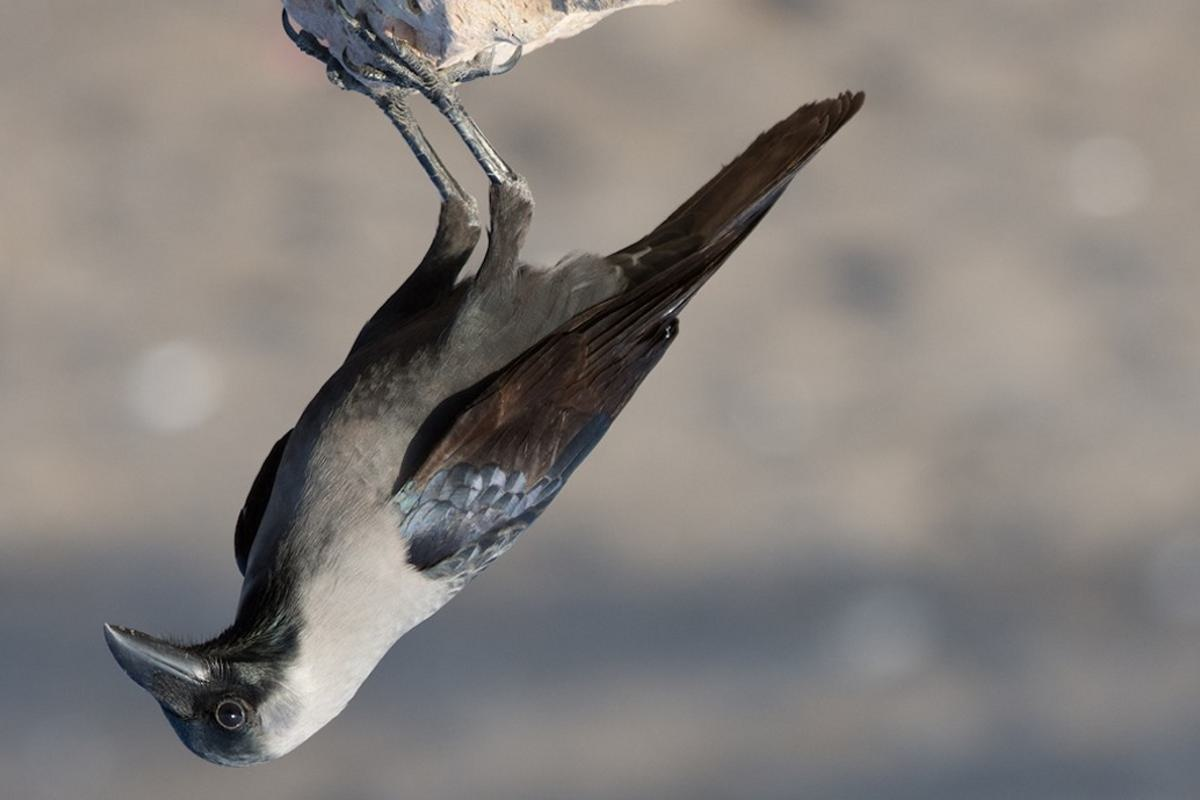crow: (87, 35, 967, 776)
